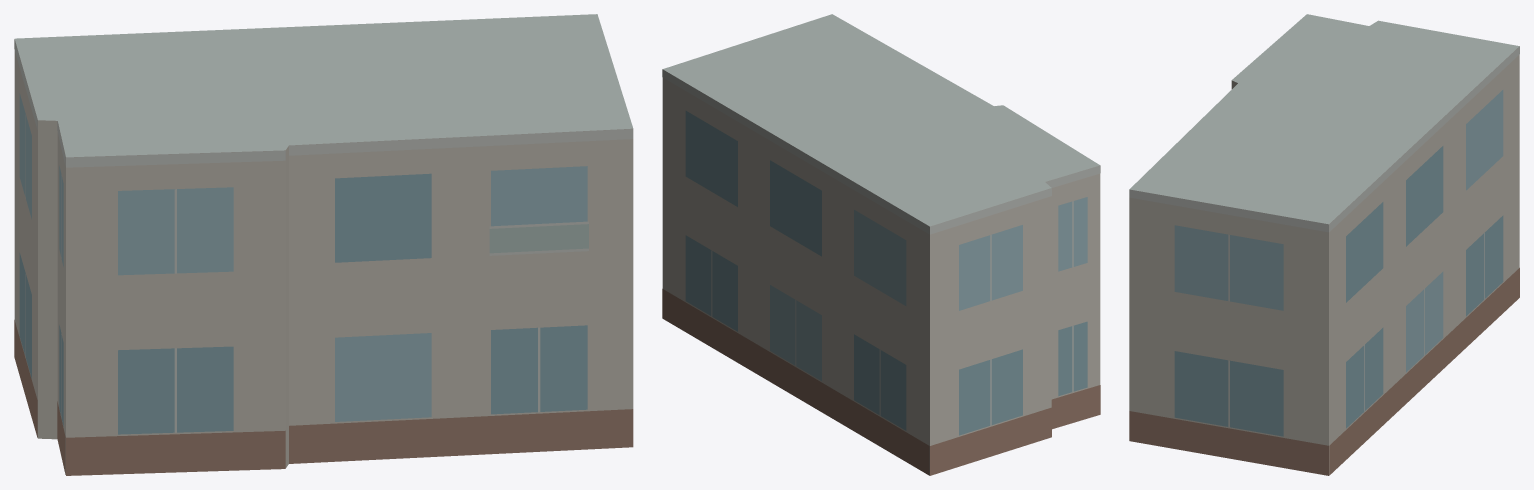
File: survey-upis-32517750.glb
3 views of the same model, side by side, from view 1: azimuth 30°, elevation 25°; view 2: azimuth 150°, elevation 25°; view 3: azimuth 270°, elevation 25° (orthographic). The views are drawn at different scales.
Visible parts, largest first — view 1: survey-upis-32517750.tmp; view 2: survey-upis-32517750.tmp; view 3: survey-upis-32517750.tmp.
Part boxes in pixels (<box>): survey-upis-32517750.tmp: <box>14,14,633,475</box>; survey-upis-32517750.tmp: <box>662,14,1100,475</box>; survey-upis-32517750.tmp: <box>1129,14,1519,475</box>.
Bounding box in the file's own units: 13.45 × 7.5 × 10.56.
